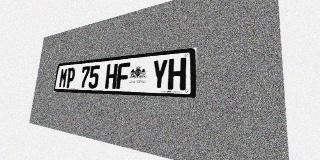5: (88, 65, 100, 88)
7: (79, 66, 91, 88)
F: (116, 62, 130, 89)
H: (168, 57, 186, 90), (105, 63, 118, 89)
M: (58, 68, 68, 88)
P: (66, 67, 76, 88)
Y: (151, 59, 168, 90)
